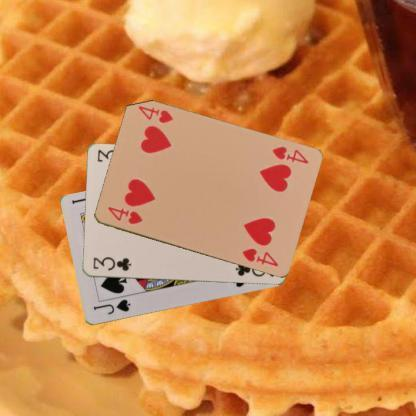3c: (90, 254, 132, 272)
4h: (268, 144, 310, 166), (104, 204, 144, 226)
Js: (90, 297, 132, 316)
